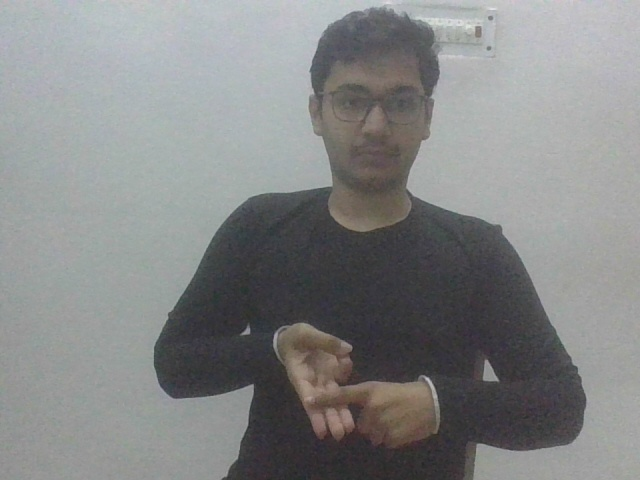E: (273, 321, 441, 452)
